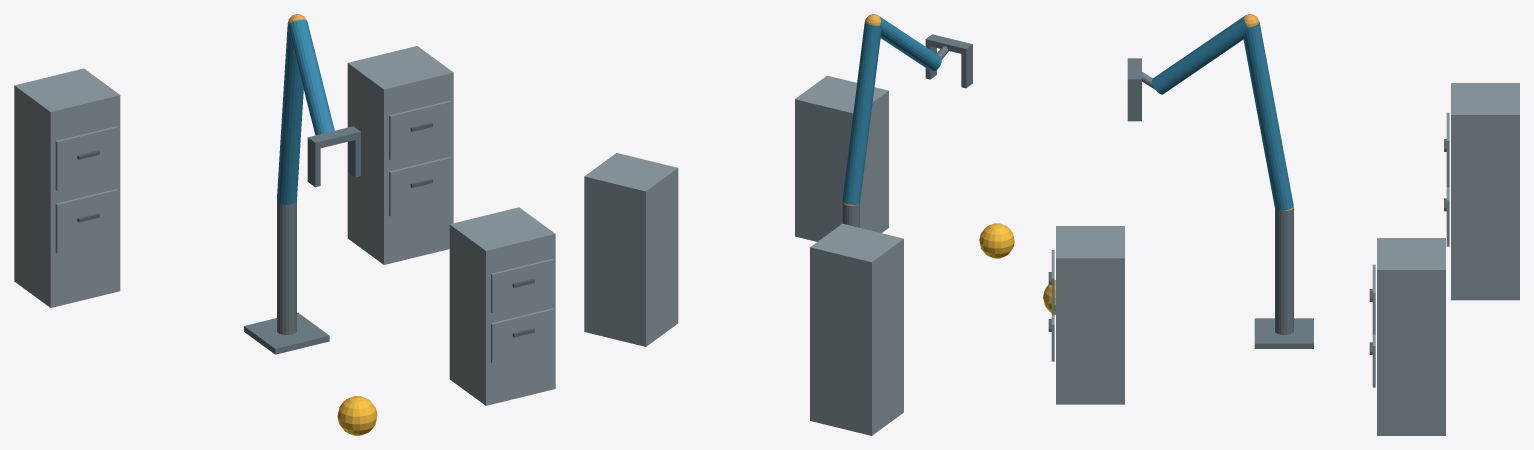
The picture shows the model from 3 angles, left to right: view 1: azimuth 30°, elevation 25°; view 2: azimuth 150°, elevation 25°; view 3: azimuth 270°, elevation 25°; orthographic projection. The views are drawn at different scales.
Parts seen in each view (by area): view 1: cabinet_3 body, cabinet_2 body, cabinet_1 body, cabinet_3 drawer front.001, cabinet_3 drawer front, moving link 1, cabinet_2 drawer front, cabinet_2 drawer front.001, fixed post, cabinet_1 drawer front, cabinet_1 drawer front.001, moving link 2 (+4 smaller); view 2: cabinet_3 body, cabinet_2 body, cabinet_1 body, moving link 1, moving link 2, ball ball_1, gripper bridge; view 3: cabinet_3 body, cabinet_2 body, cabinet_1 body, moving link 1, fixed post, moving link 2, pedestal, gripper finger 1.
Part boxes in pixels (x1,y1,x2,y2): cabinet_3 body: (14,68,120,307); cabinet_2 body: (347,46,453,264); cabinet_1 body: (449,207,555,405); cabinet_3 drawer front.001: (55,126,118,190); cabinet_3 drawer front: (55,189,118,253); moving link 1: (277,23,303,204); cabinet_2 drawer front: (389,156,451,216); cabinet_2 drawer front.001: (389,100,451,160); fixed post: (277,200,296,334); cabinet_1 drawer front: (491,308,553,362); cabinet_1 drawer front.001: (491,259,553,313); moving link 2: (288,19,334,135); cabinet_3 body: (810,223,903,435); cabinet_2 body: (584,153,678,346); cabinet_1 body: (795,75,888,241); moving link 1: (842,22,881,204); moving link 2: (880,17,941,71); ball ball_1: (979,223,1014,258); gripper bridge: (925,34,972,54); cabinet_3 body: (1451,83,1519,300); cabinet_2 body: (1377,238,1445,435); cabinet_1 body: (1056,226,1124,404); moving link 1: (1243,22,1293,210); fixed post: (1275,207,1293,334); moving link 2: (1151,16,1247,94); pedestal: (1254,318,1313,348); gripper finger 1: (1127,86,1141,121).
Bounding box in the file's own units: 1.67 × 1.48 × 2.01.
